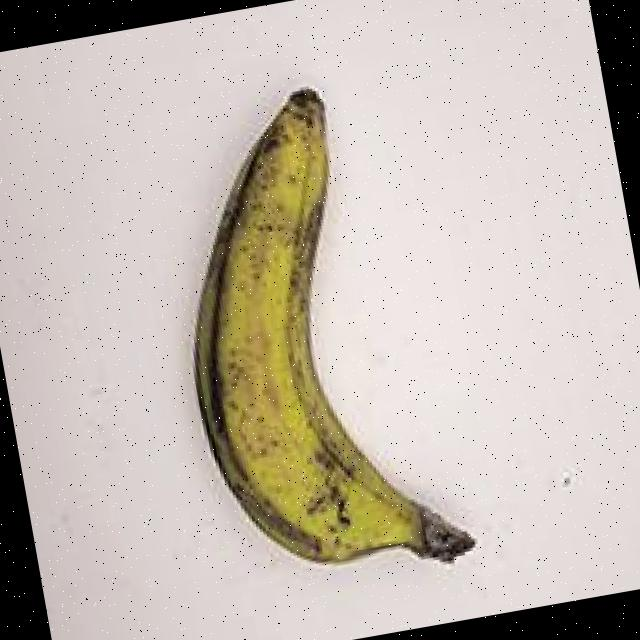Overripe: (122, 36, 504, 614)
